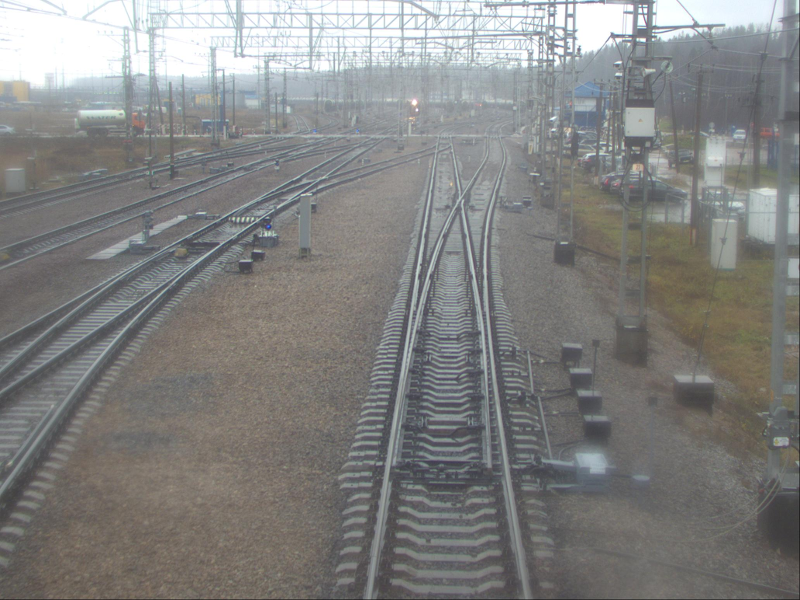right: (389, 191, 510, 481)
